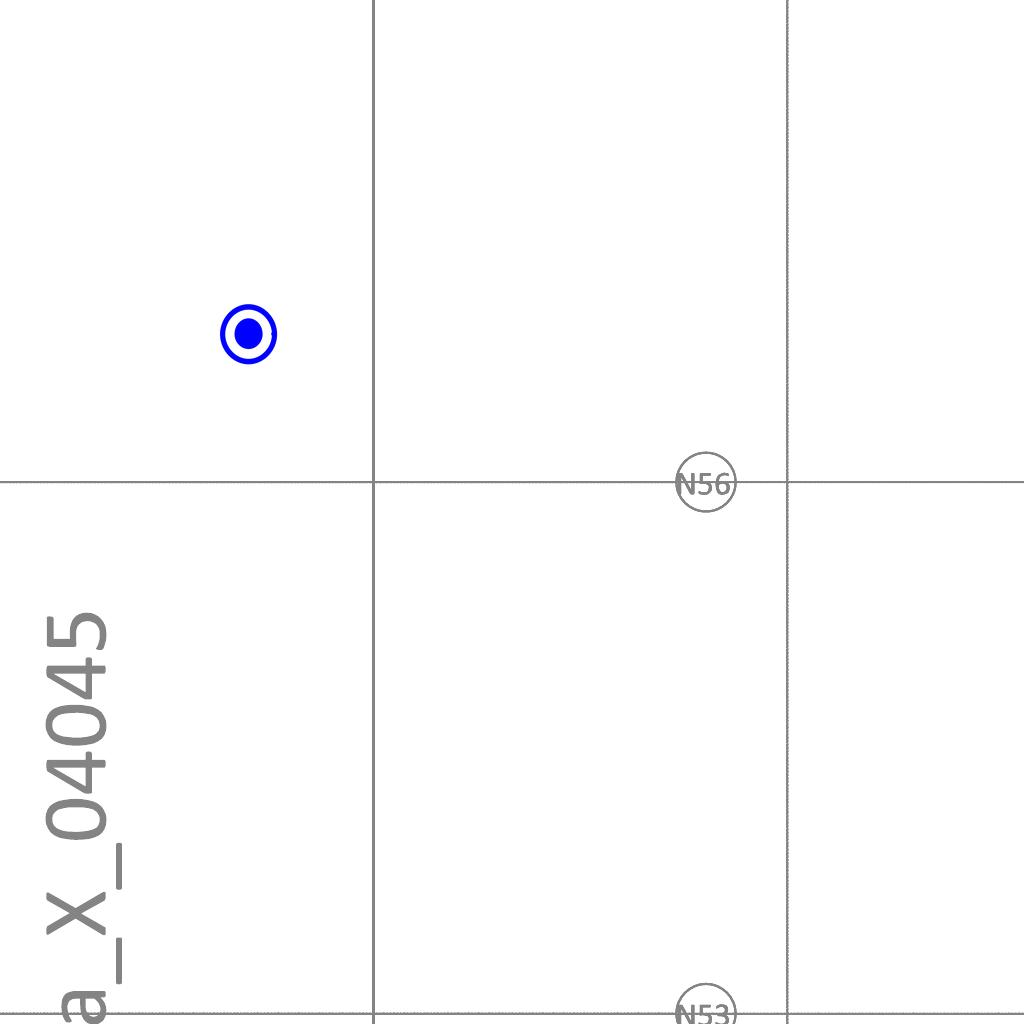Taster: (218, 301, 284, 367)
